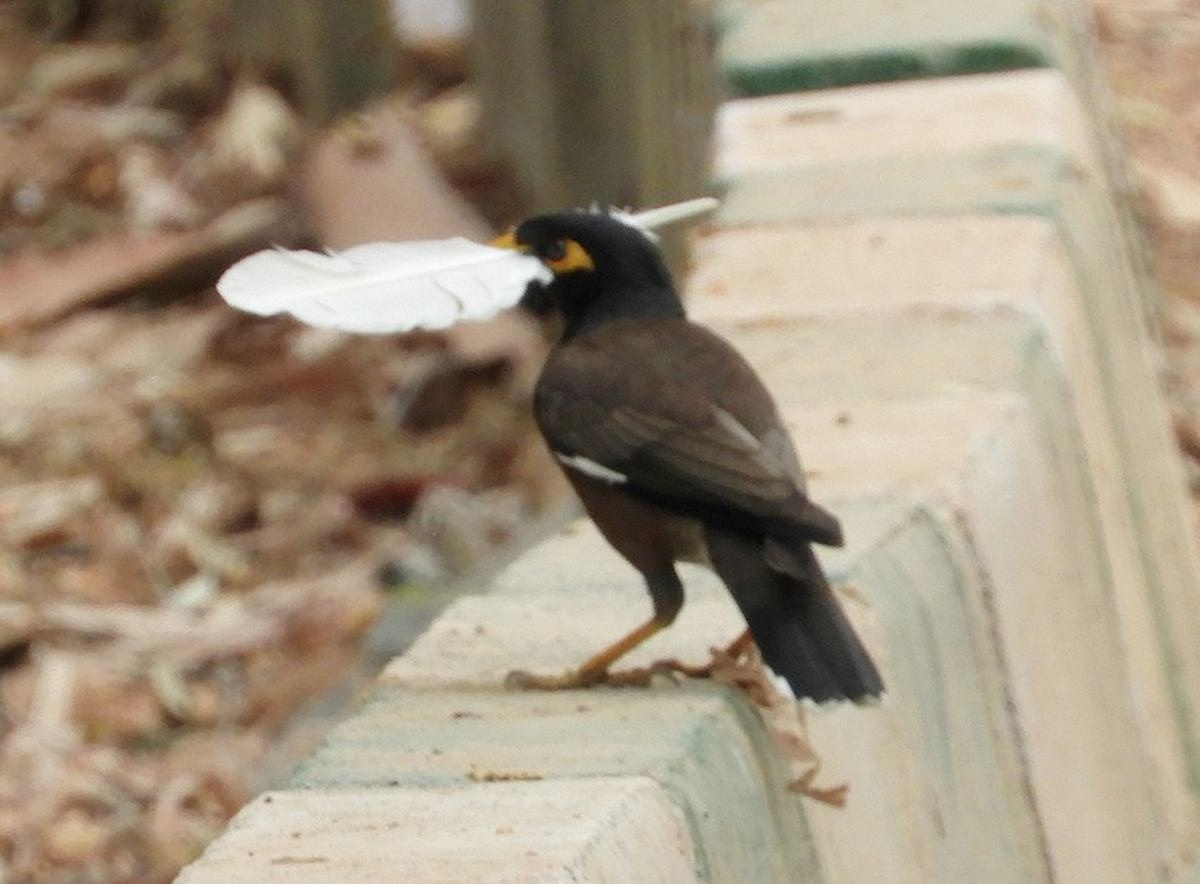myna: (503, 189, 928, 713)
